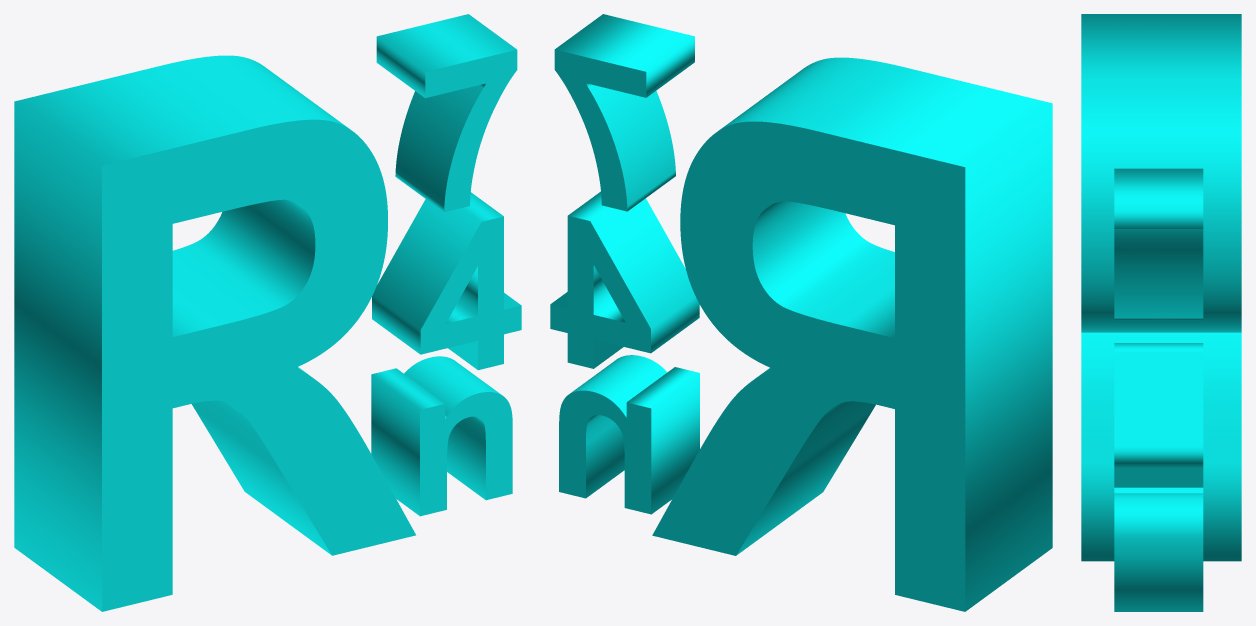
The model's file is favicon.glb.
The picture shows the model from 3 angles, left to right: view 1: azimuth 30°, elevation 25°; view 2: azimuth 150°, elevation 25°; view 3: azimuth 270°, elevation 25°; orthographic projection. The views are drawn at different scales.
Visible parts, largest first — view 1: R, R.002, R.003, 7; view 2: R, R.002, R.003, 7; view 3: R, 7, R.002, R.003.
Boxes of the visible parts, <box> form: R: <box>14,55,415,611</box>; R.002: <box>372,192,521,370</box>; R.003: <box>371,356,512,516</box>; 7: <box>376,14,517,212</box>; R: <box>652,57,1052,611</box>; R.002: <box>550,191,699,368</box>; R.003: <box>559,355,699,514</box>; 7: <box>554,14,694,211</box>; R: <box>1081,14,1241,561</box>; 7: <box>1114,168,1203,320</box>; R.002: <box>1114,343,1203,487</box>; R.003: <box>1114,487,1203,611</box>.
Size of the model in its own units: 0.5185 by 0.5057 by 0.18.
